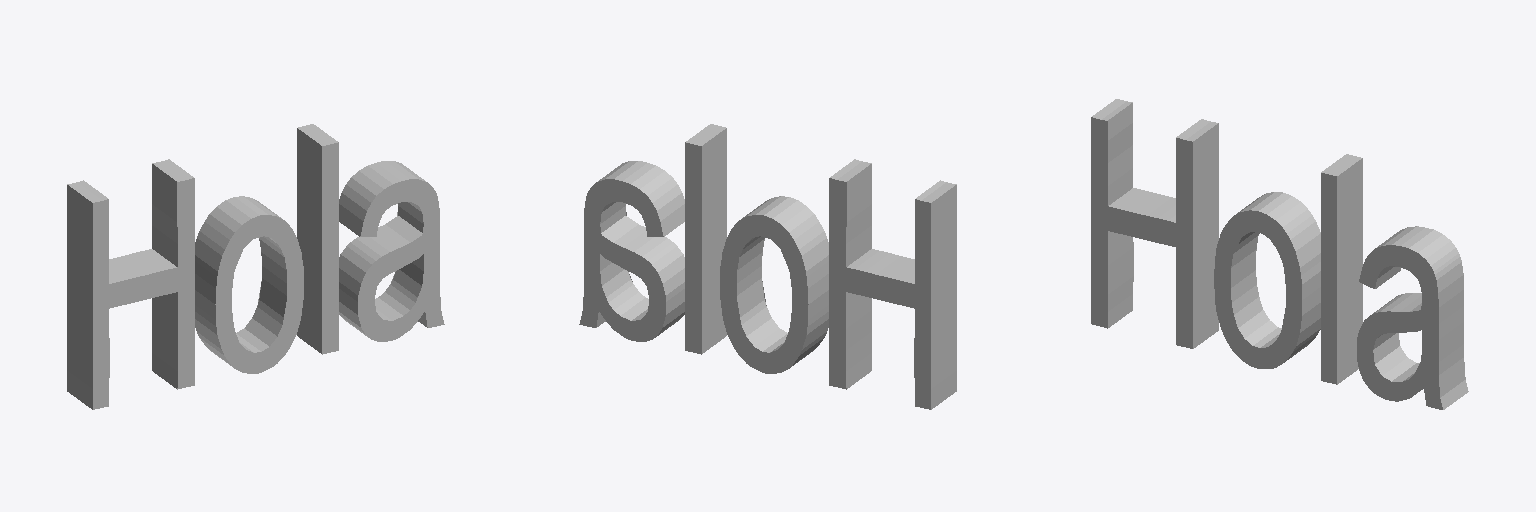
Rendered from Hello.obj.
The picture shows the model from 3 angles: view 1: azimuth 30°, elevation 25°; view 2: azimuth 150°, elevation 25°; view 3: azimuth 330°, elevation 25°; orthographic projection.
Visible parts, largest first — view 1: Plane, Plane.003, Plane.001, Plane.002; view 2: Plane, Plane.003, Plane.001, Plane.002; view 3: Plane, Plane.003, Plane.001, Plane.002.
Part boxes in pixels (x1,y1,x2,y2): Plane: (67,159,194,409); Plane.003: (339,161,444,341); Plane.001: (195,196,303,373); Plane.002: (297,124,338,354); Plane: (829,159,956,409); Plane.003: (579,161,684,341); Plane.001: (720,196,828,373); Plane.002: (685,124,726,354); Plane: (1091,99,1218,348); Plane.003: (1357,226,1468,409); Plane.001: (1214,192,1320,368); Plane.002: (1321,154,1362,384).
Size of the model in its own units: 1.79 by 1.03 by 0.2238.